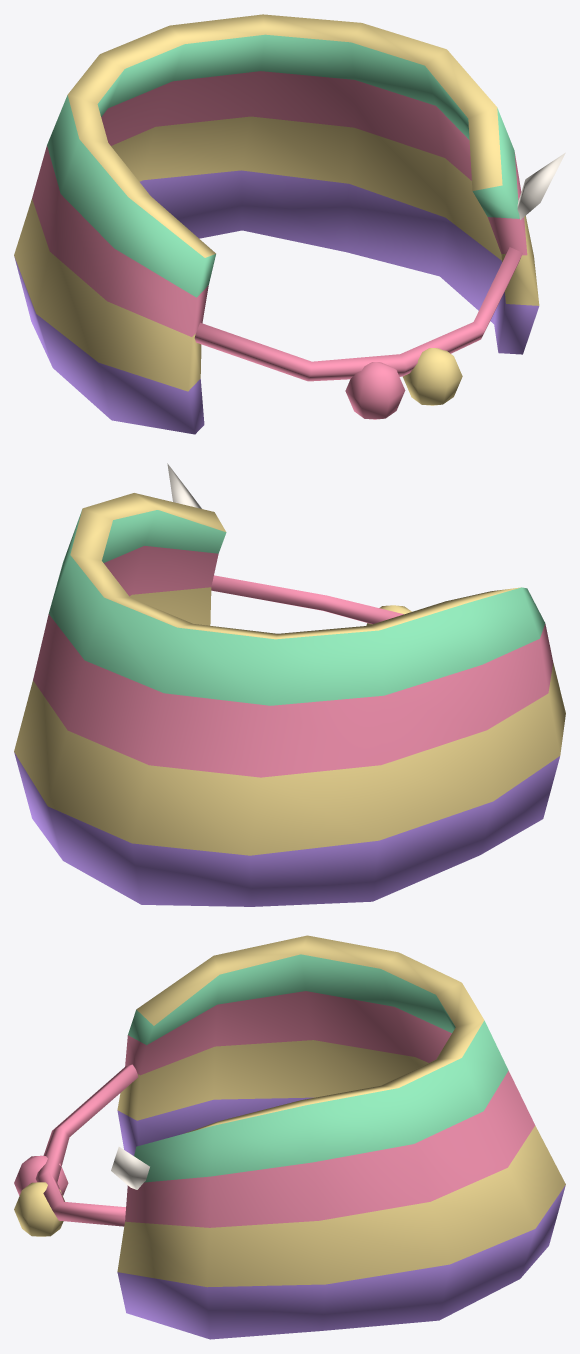
File: knitted_blanket.glb
The picture shows the model from 3 angles, top to bottom: view 1: azimuth 30°, elevation 25°; view 2: azimuth 150°, elevation 25°; view 3: azimuth 270°, elevation 25°; orthographic projection. The views are drawn at different scales.
Parts seen in each view (by area): view 1: knitted_blanket; view 2: knitted_blanket; view 3: knitted_blanket.
Part boxes in pixels (x1,y1,x2,y2): knitted_blanket: (14, 14, 565, 434); knitted_blanket: (14, 463, 565, 906); knitted_blanket: (14, 935, 565, 1339).
Size of the model in its own units: 0.7286 by 0.382 by 0.8468.
